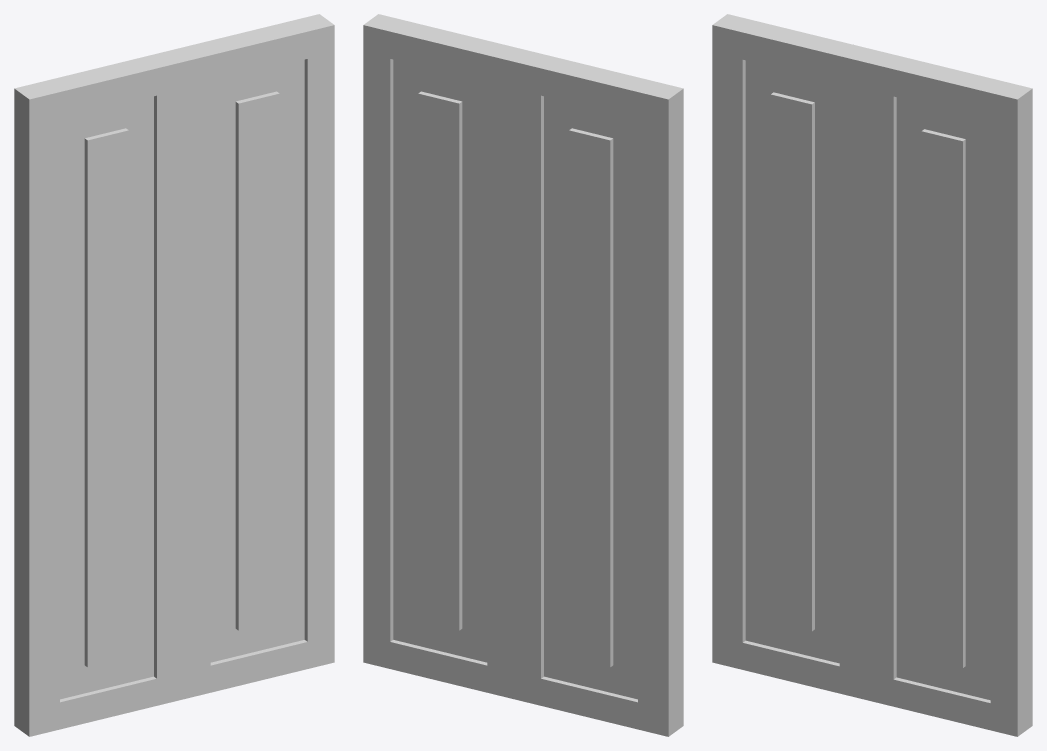
Rendered from door_1.glb.
3 views of the same model, side by side, from view 1: azimuth 30°, elevation 25°; view 2: azimuth 150°, elevation 25°; view 3: azimuth 330°, elevation 25° (orthographic).
Visible parts, largest first — view 1: Door 1; view 2: Door 1; view 3: Door 1.
Part boxes in pixels (bbox=[...]): Door 1: bbox=[14, 14, 334, 736]; Door 1: bbox=[363, 14, 683, 736]; Door 1: bbox=[712, 14, 1032, 736].
Bounding box in the file's own units: 1.01 × 2.02 × 0.0871.
Materials: 1 (1 with a texture image).
